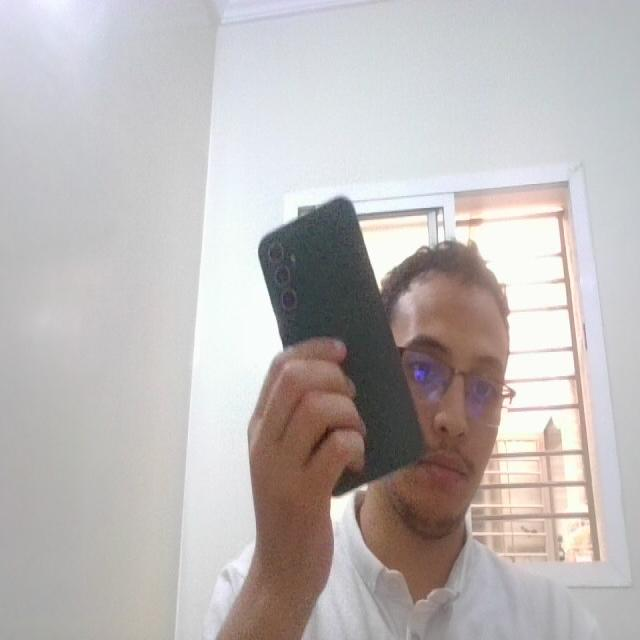phone: (250, 194, 434, 502)
